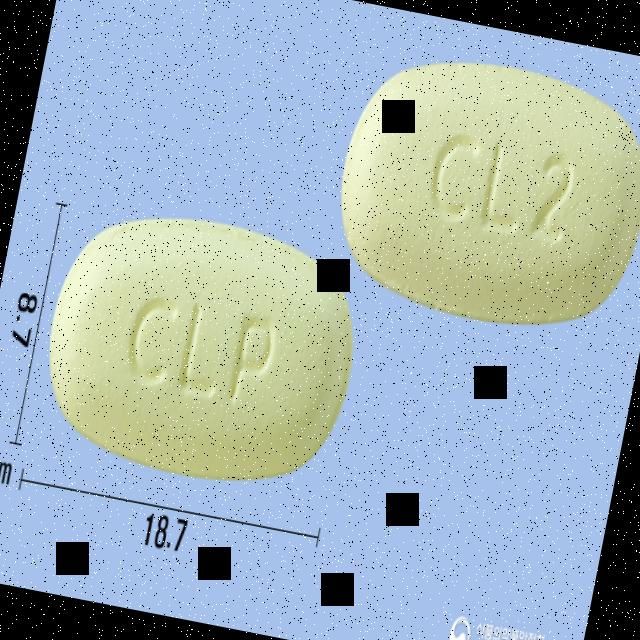Celltrion Clarithromycin: (26, 191, 376, 508), (317, 36, 640, 354)
